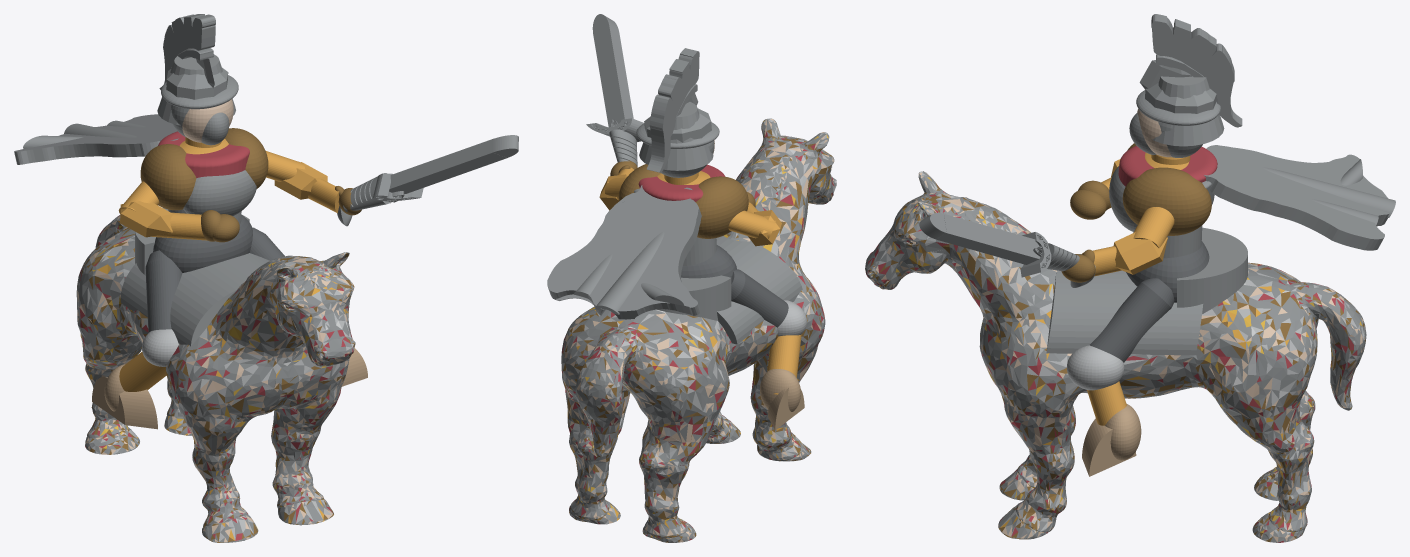
File: player_general_3.glb
3 views of the same model, side by side, from view 1: azimuth 30°, elevation 25°; view 2: azimuth 150°, elevation 25°; view 3: azimuth 270°, elevation 25° (orthographic). The views are drawn at different scales.
Visible parts, largest first — view 1: Mesh_Mesh_head_geo.001_lambert2SG.001; view 2: Mesh_Mesh_head_geo.001_lambert2SG.001; view 3: Mesh_Mesh_head_geo.001_lambert2SG.001.
Boxes of the visible parts, x1,y1,x2,y2 form: Mesh_Mesh_head_geo.001_lambert2SG.001: [14, 14, 518, 542]; Mesh_Mesh_head_geo.001_lambert2SG.001: [547, 14, 836, 542]; Mesh_Mesh_head_geo.001_lambert2SG.001: [865, 14, 1395, 542].
Bounding box in the file's own units: 90.49 × 127 × 124.
